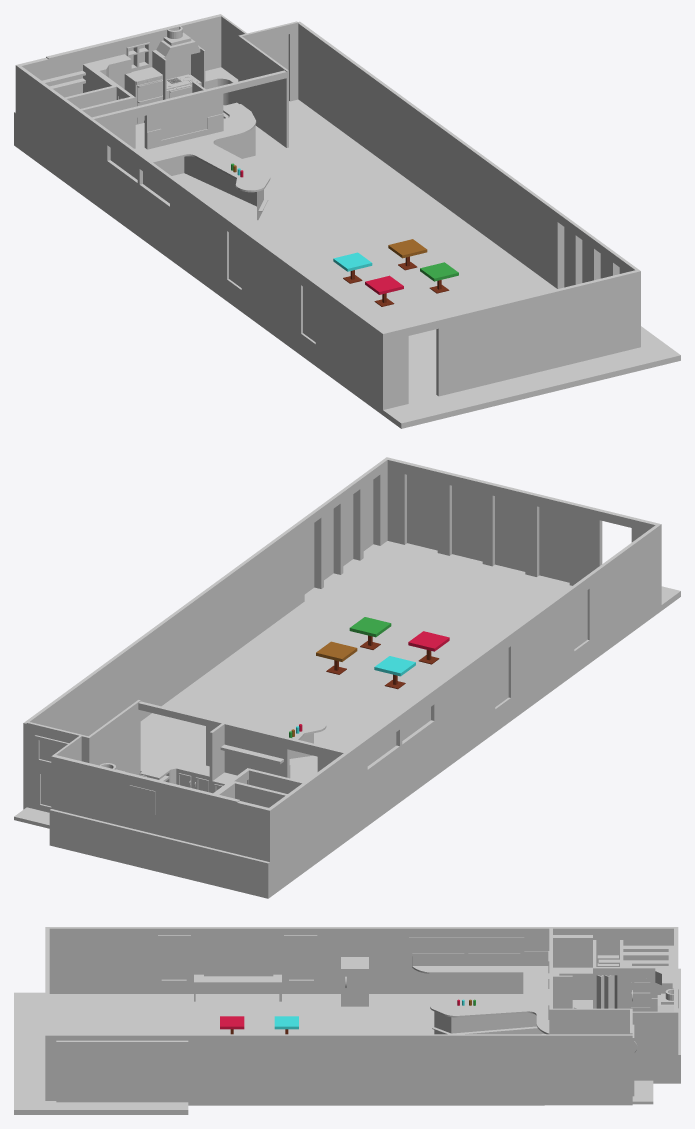
Rendered from env_orig.dae.
3 renders of one model, top to bottom at view 1: azimuth 30°, elevation 25°; view 2: azimuth 150°, elevation 25°; view 3: azimuth 270°, elevation 25°, orthographic. The views are drawn at different scales.
Parts seen in each view (by area): view 1: base; view 2: base; view 3: base (×3).
Part boxes in pixels (left/top/right/bottom): base: left=14, top=14, right=680, bottom=428; base: left=14, top=457, right=680, bottom=898; base (×3): left=14, top=927, right=680, bottom=1114.
Size of the model in its own units: 10.17 by 24.41 by 2.87.
